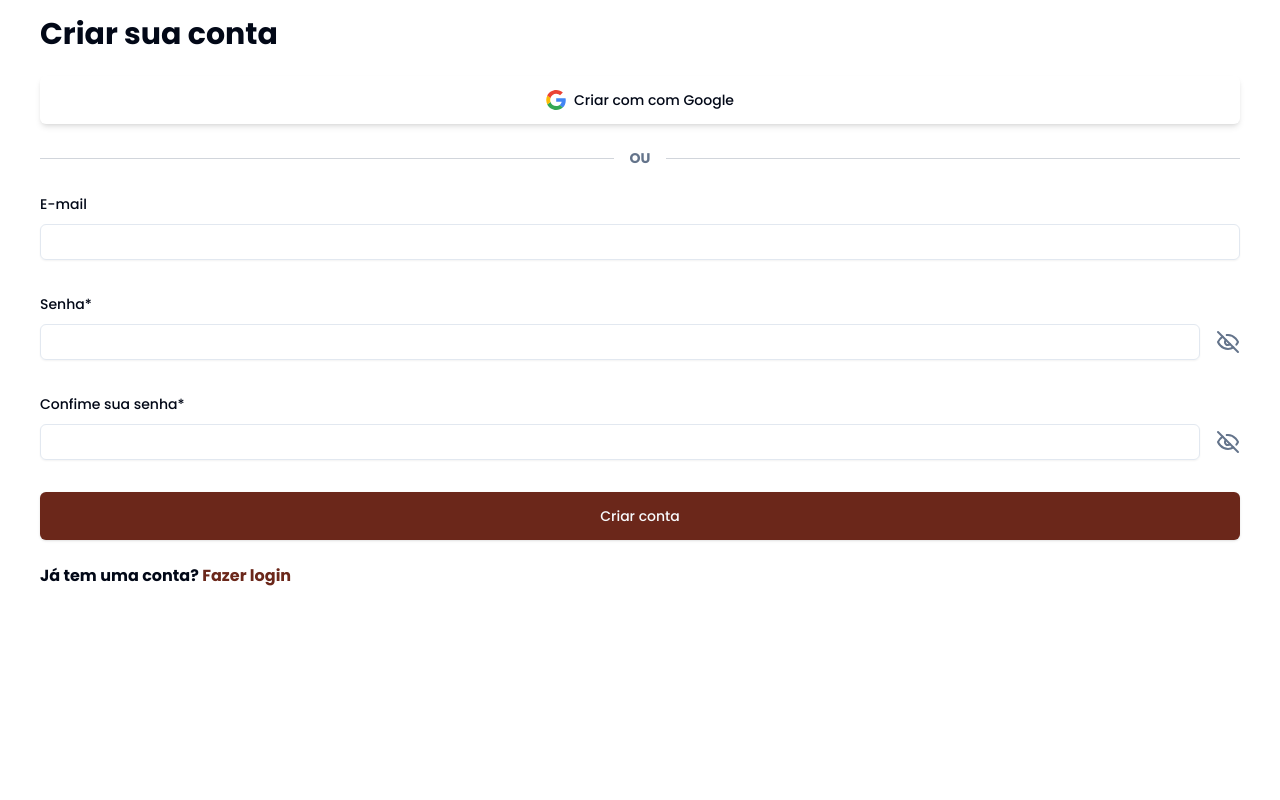
it: SignUp form component › should render validation error if password inputs value are not the same
The width and height of the screenshot is (1280, 800).
Type "email@gmail.com" into the field with test id "signUpInput" at (640, 242), box [40,224,1240,260]
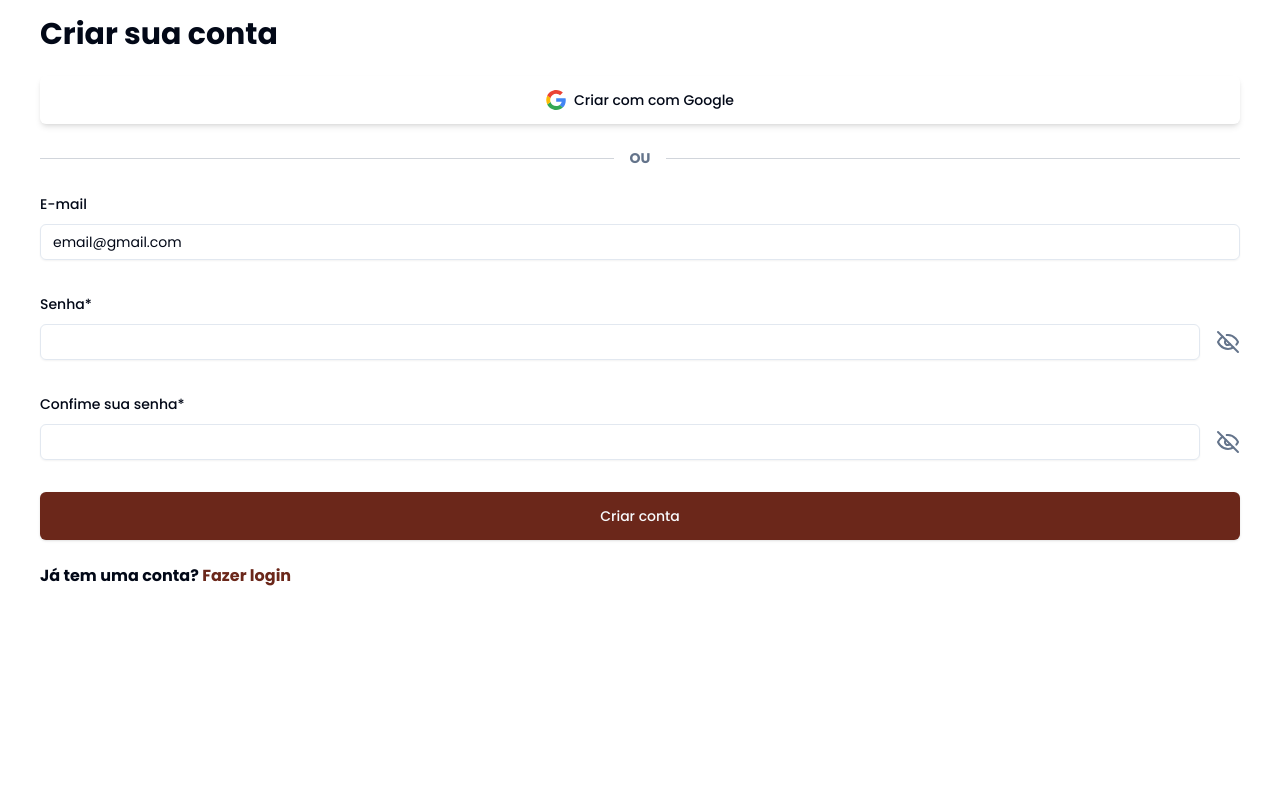
Type "password124" into the password field with test id "signUpInput" at (620, 342), box [40,324,1200,360]
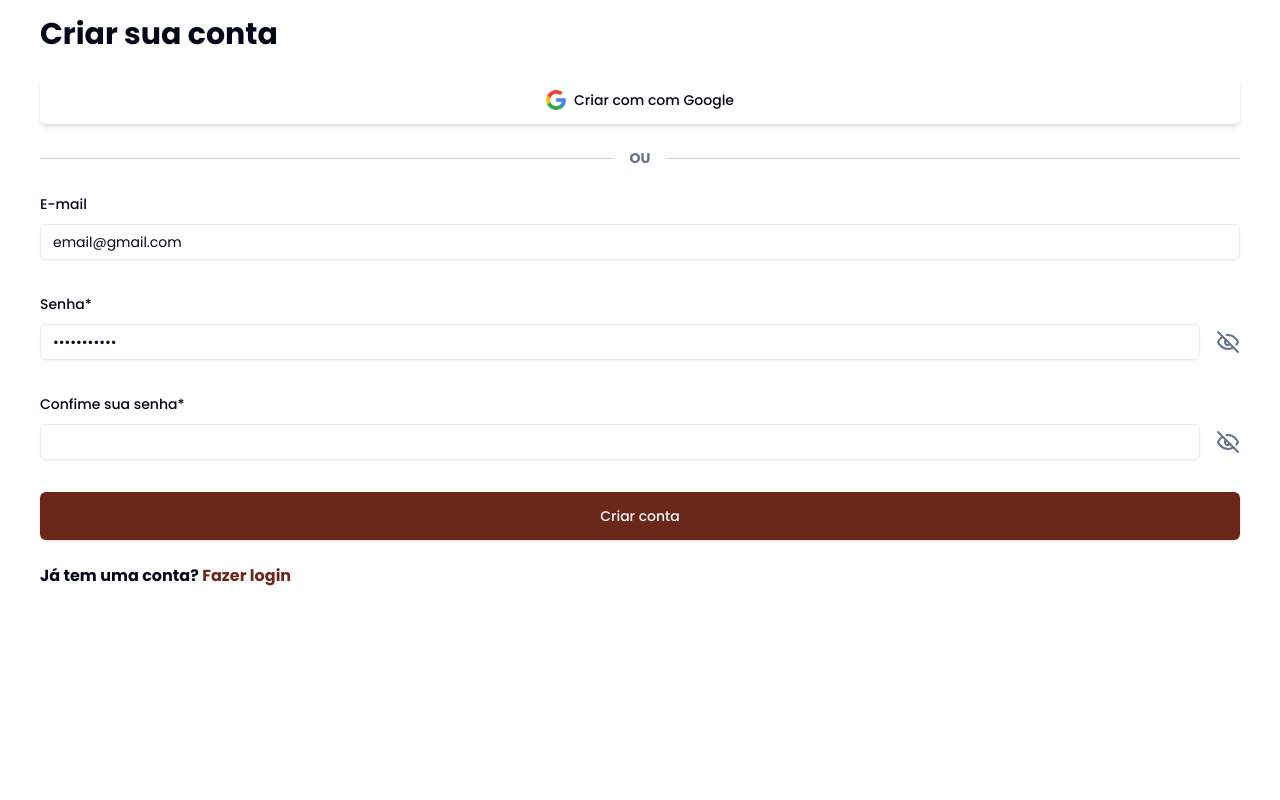
Type "password100" into the password field with test id "signUpInput" at (620, 442), box [40,424,1200,460]
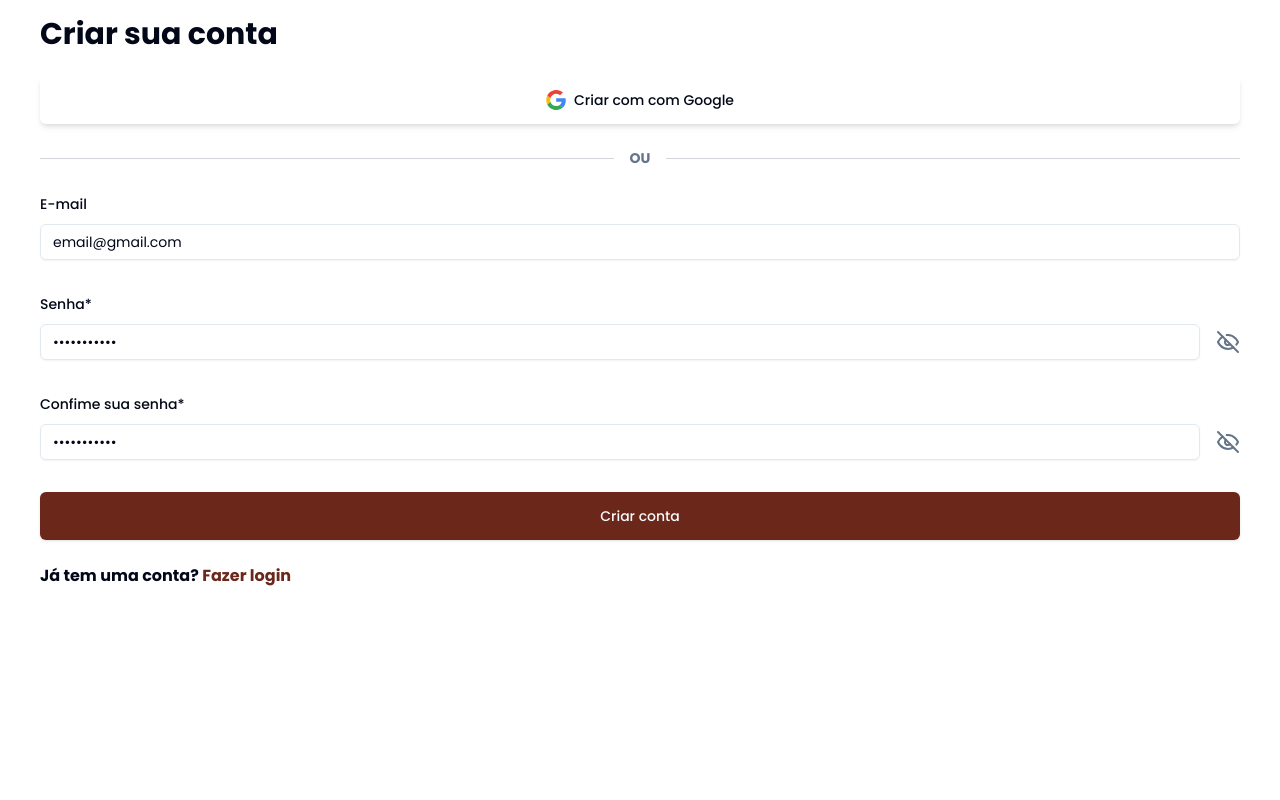
Click the button "Criar conta" at (640, 516), box [40,492,1240,540]
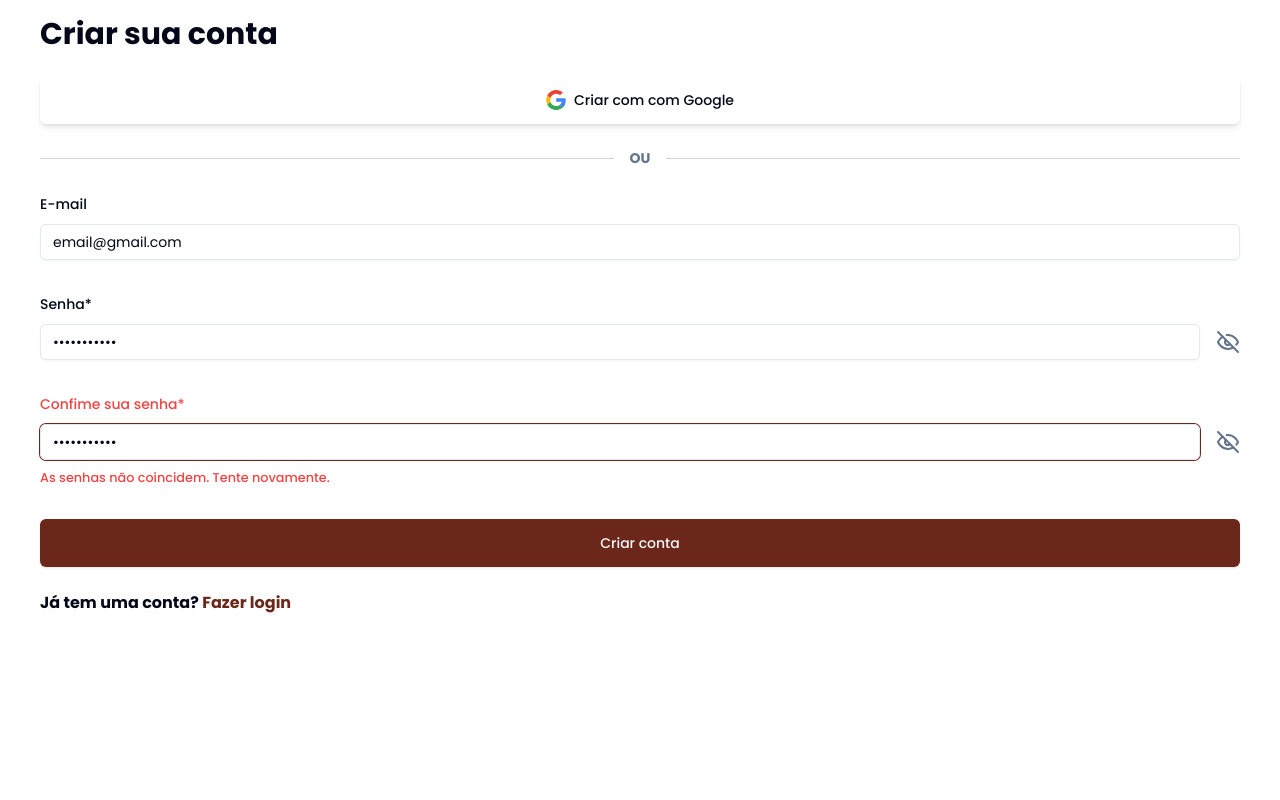
Expected: the number of elements with test id "validationErrorMessage" is 1, [40,469,330,486]
